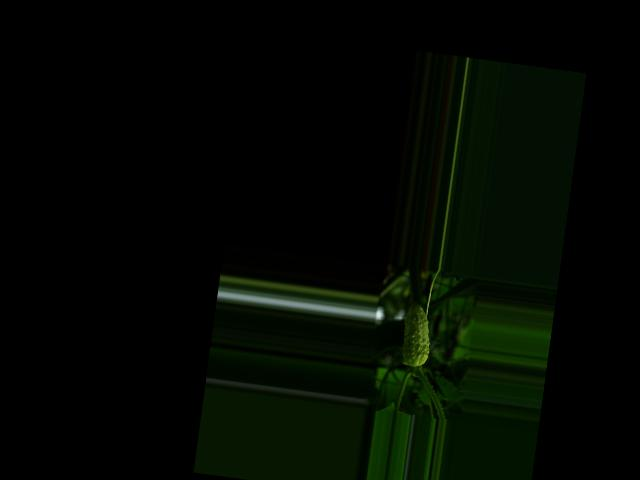cucumber: (400, 300, 436, 368)
